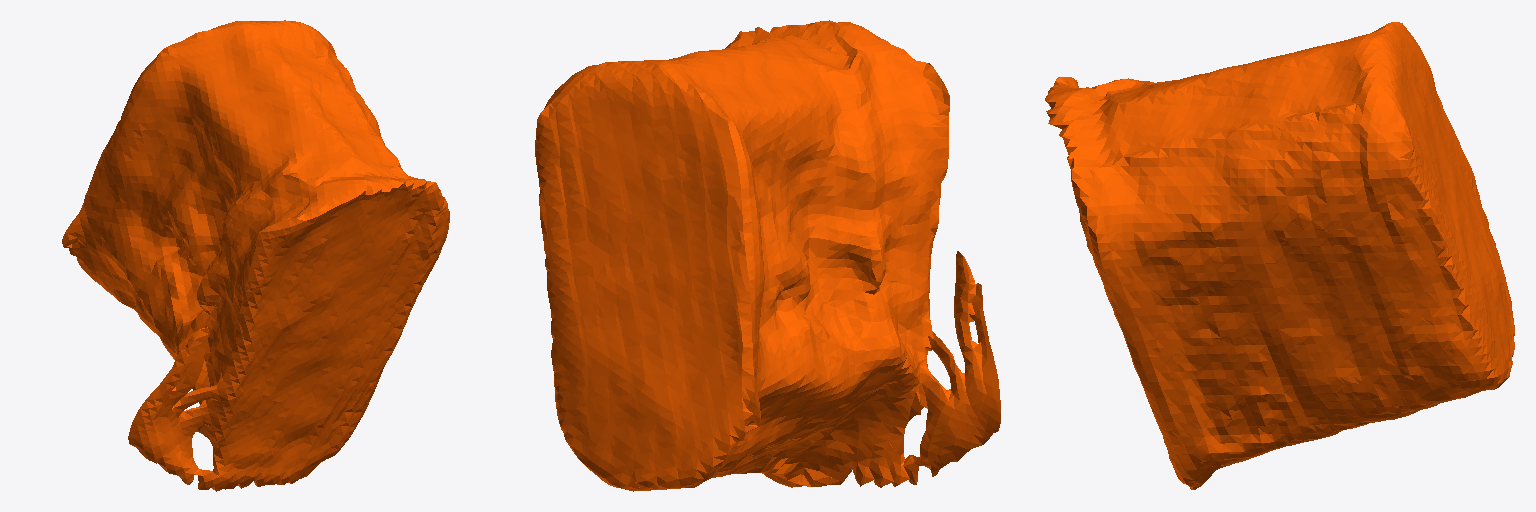
The robot description file, URDF, robot "64834e9bb":
<?xml version="1.0" ?>
<robot name="64834e9bb">
   <material name="obj_color">
      <color rgba="1.0 0.423529411765 0.0392156862745 1.0"/>
   </material>
   <link name="top">
      <inertial>
         <origin rpy="0.0005325059839527406 0.0005652939194551809 0.0008244547114265975" xyz="0.01276729765832899 0.0009903282707073532 0.004775190230241842"/>
         <mass value="0.5150767644012102"/>
         <inertia ixx="0.0008099293756515671" ixy="-6.056540729335744e-06" ixz="-6.217326823601568e-05" iyy="0.0005600749140923091" iyz="1.398375973975451e-05" izz="0.000552250325090643"/>
      </inertial>
      <visual>
         <origin rpy="0 0 0" xyz="0 0 0"/>
         <geometry>
            <mesh filename="top_watertight_tiny.stl" scale="1 1 1"/>
         </geometry>
         <material name="obj_color"/>
      </visual>
      <collision>
         <origin rpy="0 0 0" xyz="0 0 0"/>
         <geometry>
            <mesh filename="top_watertight_tiny.obj" scale="1 1 1"/>
         </geometry>
      </collision>
   </link>
   <link name="bottom">
      <inertial>
         <origin rpy="1.633333333199431e-08 1.633333333199431e-08 1.633333333362855e-08" xyz="0.3464080000000008 0.3464080000000008 0.3464080000000008"/>
         <mass value="0.0009800000000000017"/>
         <inertia ixx="1.633333333253906e-08" ixy="5.447480642029219e-19" ixz="5.447480642029219e-19" iyy="1.633333333253906e-08" iyz="5.447480642029219e-19" izz="1.633333333253906e-08"/>
      </inertial>
      <visual>
         <origin rpy="0 0 0" xyz="0 0 0"/>
         <geometry>
            <mesh filename="bottom_watertight_tiny.stl" scale="1 1 1"/>
         </geometry>
         <material name="obj_color"/>
      </visual>
   </link>
   <link name="world"/>
   <joint name="world_to_base" type="fixed">
      <origin xyz="0 0 0"/>
      <axis xyz="0 0 0"/>
      <parent link="world"/>
      <child link="bottom"/>
   </joint>
   <joint name="rotation" type="revolute">
      <origin xyz="0 0 0"/>
      <axis xyz="0 0 -1"/>
      <parent link="bottom"/>
      <child link="top"/>
      <dynamics damping="1.0" friction="1.0"/>
      <limit effort="0.1" velocity="0.1" lower="0" upper="0.001"/>
   </joint>
</robot>

--- What the picture shows (computed from the rendered views, not written in the file) ---
Views: 3 orthographic renders of the robot side by side, from view 1: azimuth 30°, elevation 25°; view 2: azimuth 150°, elevation 25°; view 3: azimuth 270°, elevation 25°.
Model 64834e9bb with 3 links and 2 joints (1 revolute, 1 fixed), rooted at world, posed all joints at 0.
Visible links, largest first — view 1: top; view 2: top; view 3: top.
Link boxes in pixels (left/top/right/bottom): top: left=62, top=20, right=449, bottom=491; top: left=535, top=20, right=1000, bottom=491; top: left=1045, top=22, right=1514, bottom=489.
Size in the robot's own frame: 0.1046 by 0.1251 by 0.1364 metres.
1 mesh visuals loaded from 2 distinct referenced files (1 binary STL); not drawn: 1 (reference not matched to a file when rendering).